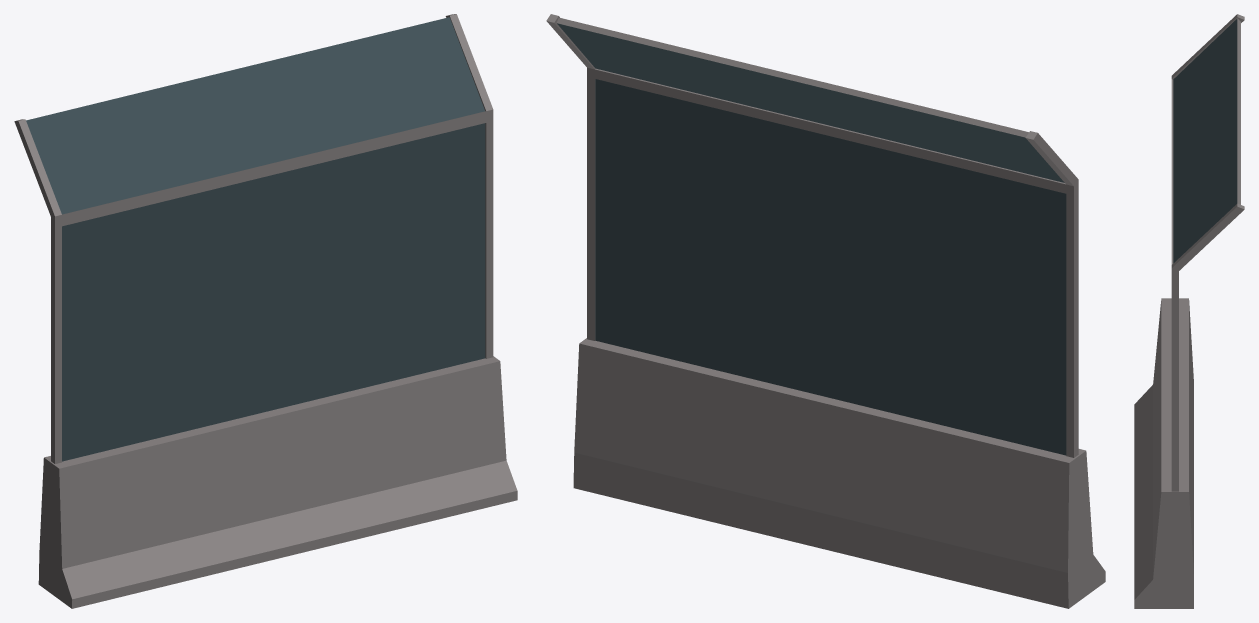
The model's file is racing_barrier-concrete-glass.fbx.
3 views of the same model, side by side, from view 1: azimuth 30°, elevation 25°; view 2: azimuth 150°, elevation 25°; view 3: azimuth 270°, elevation 25° (orthographic). The views are drawn at different scales.
Parts seen in each view (by area): view 1: racing_barrier_concrete_glass; view 2: racing_barrier_concrete_glass; view 3: racing_barrier_concrete_glass.
Part boxes in pixels (x1,y1,x2,y2): racing_barrier_concrete_glass: [14, 14, 517, 608]; racing_barrier_concrete_glass: [546, 14, 1105, 608]; racing_barrier_concrete_glass: [1134, 14, 1244, 608].
Bounding box in the file's own units: 200 × 191 × 47.7.
